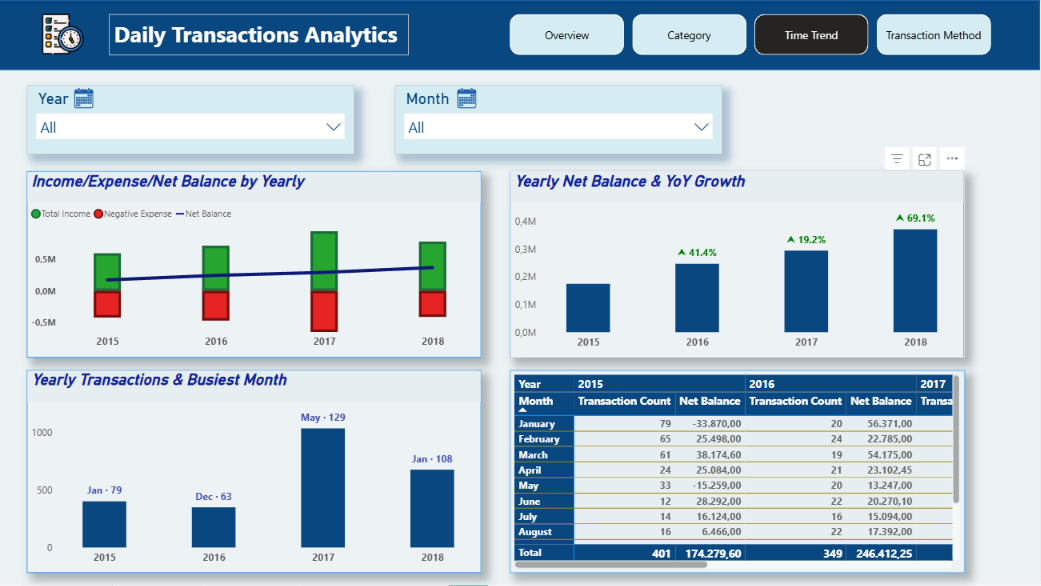

The dashboard page shown, as its layout file describes it:
{"tool":"powerbi","page":{"name":"Time Trend","canvas":[1280,720],"ordinal":2},"visuals":[{"type":"shape","box":[0,1.2,1280,85.8],"z":0},{"type":"textbox","box":[137.4,18.4,368.1,50.3],"z":1000},{"type":"image","box":[54,17.2,54,51.5],"z":2000},{"type":"pageNavigator","box":[629.5,18.4,590.2,50.3],"z":3000},{"type":"slicer","fields":{"Values":["Calendar.Date.Variation.Date Hierarchy.Year"]},"box":[36.8,105.5,401.5,84.7],"z":4000},{"type":"slicer","fields":{"Values":["Calendar.Date.Variation.Date Hierarchy.Month"]},"box":[488.3,105.5,401.5,84.7],"z":5000},{"type":"lineStackedColumnComboChart","title":"Income/Expense/Net Balance by Yearly","fields":{"Y2":["_Measures.Net Balance"],"Y":["_Measures.Total Income","_Measures.Negative Expense"],"Category":["Calendar.Date.Variation.Date Hierarchy.Year"]},"box":[36.2,211.2,557.5,228.8],"z":6000},{"type":"clusteredColumnChart","title":"Yearly Net Balance & YoY Growth","fields":{"Category":["Calendar.Date.Variation.Date Hierarchy.Year"],"Y":["_Measures.Net Balance"]},"box":[630,211.2,557.5,228.8],"z":7000},{"type":"clusteredColumnChart","title":"Yearly Transactions & Busiest Month","fields":{"Y":["_Measures.Transaction Count"],"Category":["Calendar.Date.Variation.Date Hierarchy.Year"]},"box":[36.2,455,557.5,248.8],"z":8000},{"type":"pivotTable","fields":{"Rows":["Calendar.Date.Variation.Date Hierarchy.Month"],"Columns":["Calendar.Date.Variation.Date Hierarchy.Year"],"Values":["_Measures.Transaction Count","_Measures.Net Balance"]},"box":[630,455,558,249],"z":9000},{"type":"image","box":[88.3,95.7,38,52.8],"z":10000},{"type":"image","box":[558.3,95.7,38,52.8],"z":11000}]}

Visuals, with their boxes in screenshot pixels (x1, y1, x2, y2), scaled from the page's 1280x720 canvas onto the 1041x586 screenshot:
shape: 0 1 1040 71
textbox: 112 15 411 56
image: 44 14 88 56
pageNavigator: 512 15 992 56
slicer - Calendar.Date.Variation.Date Hierarchy.Year: 30 86 356 155
slicer - Calendar.Date.Variation.Date Hierarchy.Month: 397 86 724 155
"Income/Expense/Net Balance by Yearly" lineStackedColumnComboChart: 29 172 483 358
"Yearly Net Balance & YoY Growth" clusteredColumnChart: 512 172 966 358
"Yearly Transactions & Busiest Month" clusteredColumnChart: 29 370 483 573
pivotTable - Calendar.Date.Variation.Date Hierarchy.Month x Calendar.Date.Variation.Date Hierarchy.Year: 512 370 966 573
image: 72 78 103 121
image: 454 78 485 121
